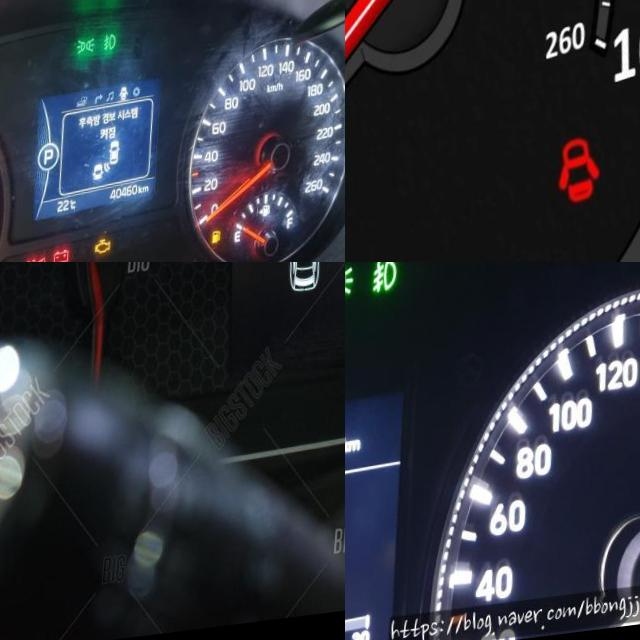FrontFogLight: (376, 264, 402, 302), (107, 38, 121, 60)
Low fuel level: (218, 240, 228, 256)
SideLamp: (345, 272, 359, 305), (79, 44, 99, 61)
